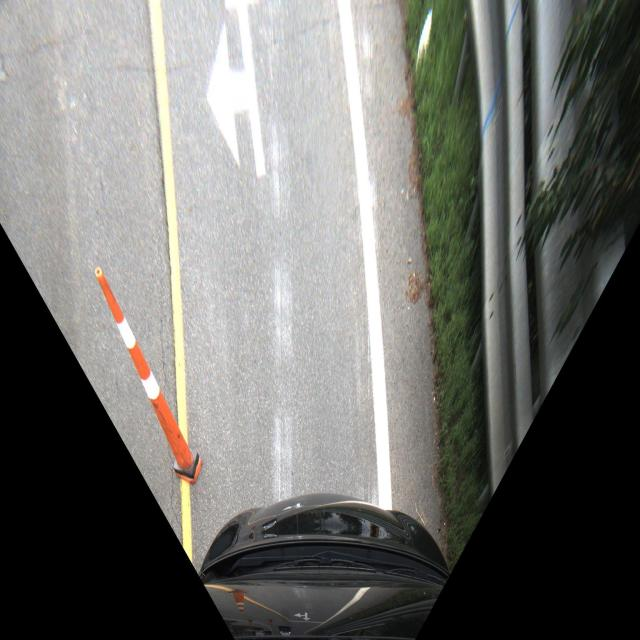forward_left: (158, 0, 360, 186)
